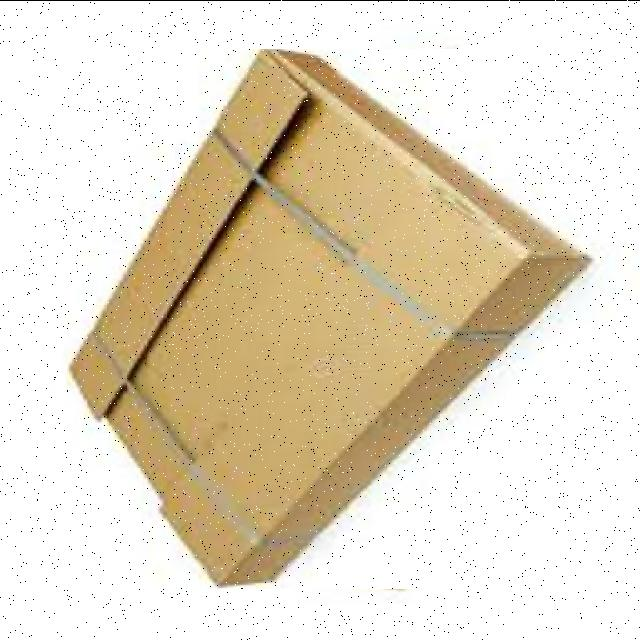normal: (66, 48, 600, 588)
